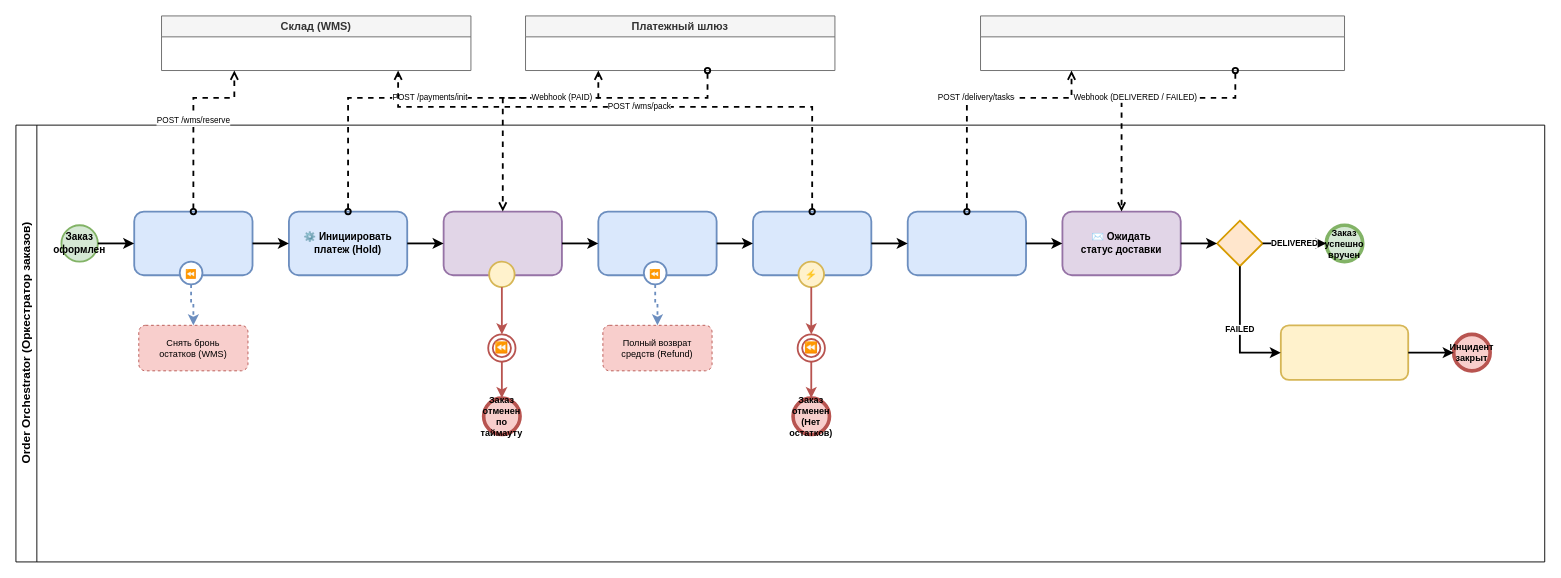
Some shapes in this 1561 by 578 pixel diagram are drawn without their labels. Here are the shapes that lost their labels. From the top down, the box of each, then its label:
(980, 15, 1345, 71): Служба доставки
(133, 210, 253, 276): ⚙️ Зарезервировать товар в WMS
(442, 210, 562, 276): ✉️ Ожидать подтверждение оплаты
(597, 210, 717, 276): ⚙️ Списать средства (Capture)
(752, 210, 872, 276): ⚙️ Передать наряд на сборку (WMS)
(906, 210, 1026, 276): ⚙️ Создать наряд на доставку
(1216, 219, 1263, 267): Статус вручения?
(488, 260, 515, 288): ⏱️ 15m
(1279, 324, 1409, 380): 👤 Ручной разбор недозвона в CRM
